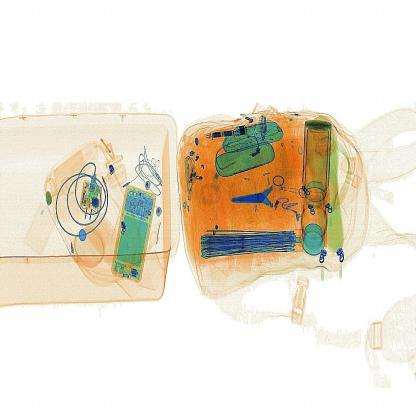gun: (224, 172, 302, 224)
